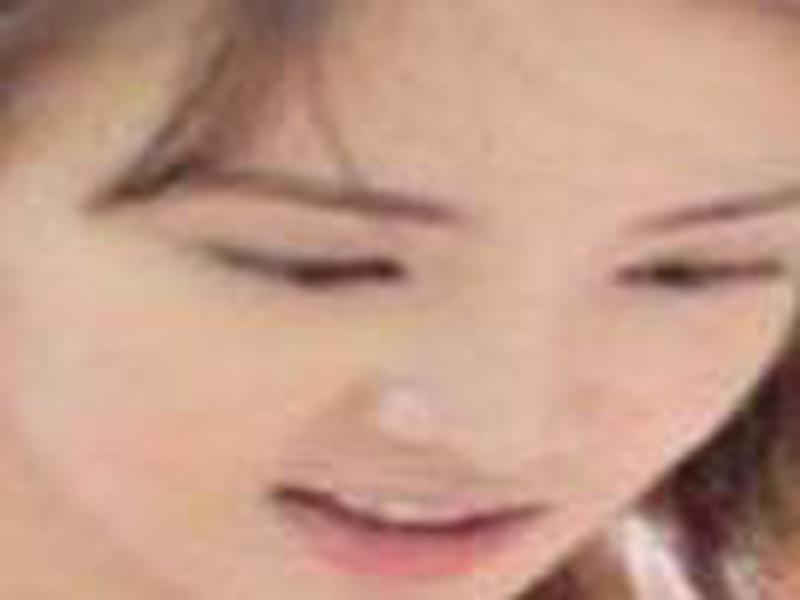without_mask: (21, 14, 783, 600)
